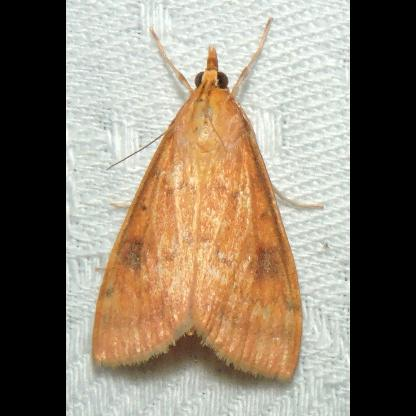Asian Corn Borer Moth: (87, 14, 327, 386)
